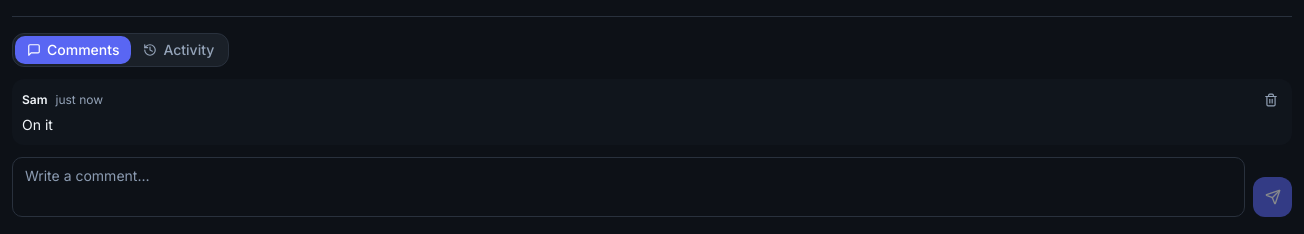
Test: TaskThread › hides a deleted comment with an Undo toast, and deletes it once the drawer closes
Click the button named "Delete comment from Sam" at (1271, 100), box top-left (1260, 89), bottom-right (1282, 111)
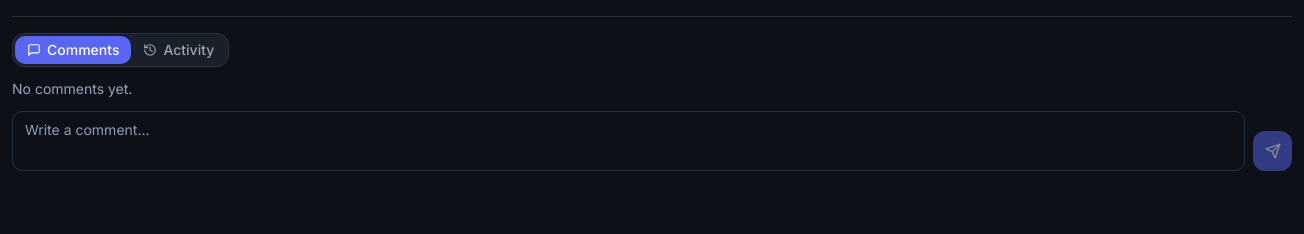
Expected: the text "On it" is gone
